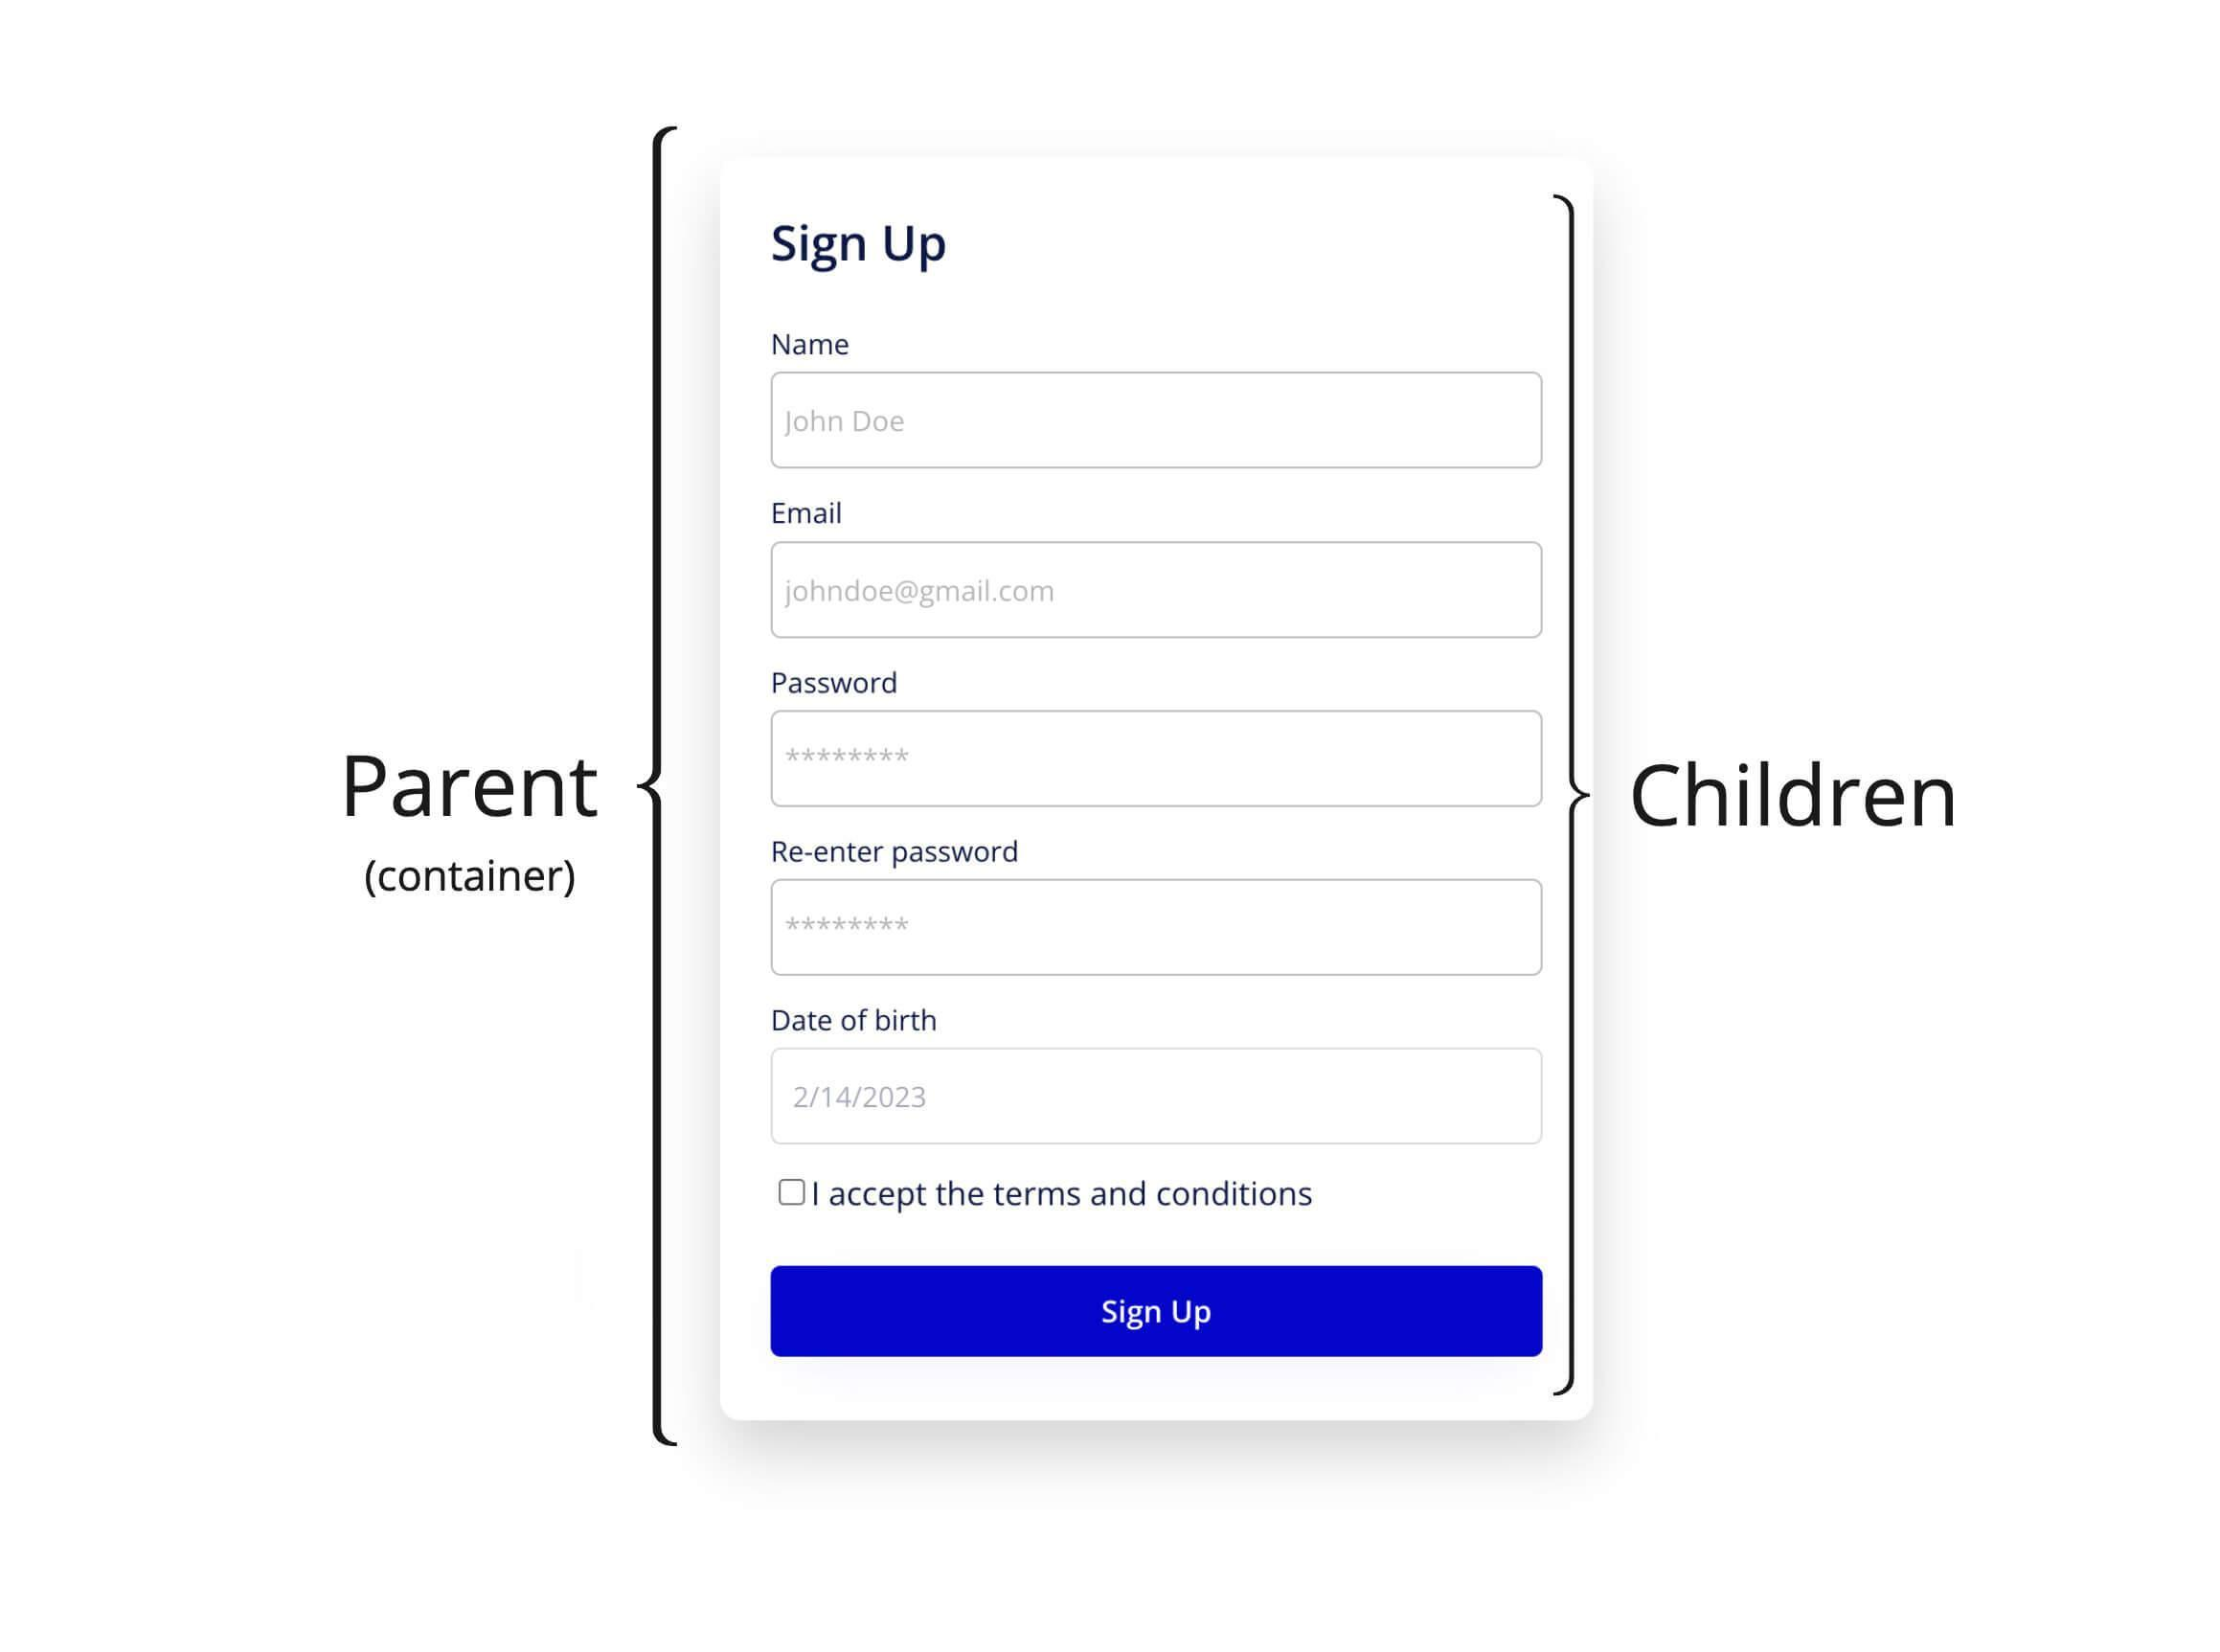button: (769, 1265, 1547, 1359)
checkbox: (776, 1173, 811, 1213)
input: (772, 875, 1547, 986), (765, 536, 1552, 644), (769, 366, 1547, 474), (769, 1043, 1548, 1147), (767, 708, 1548, 810)
label: (812, 1175, 1321, 1206), (772, 838, 1024, 876), (772, 1000, 944, 1038), (772, 668, 911, 705), (762, 498, 852, 533), (772, 326, 854, 363)
